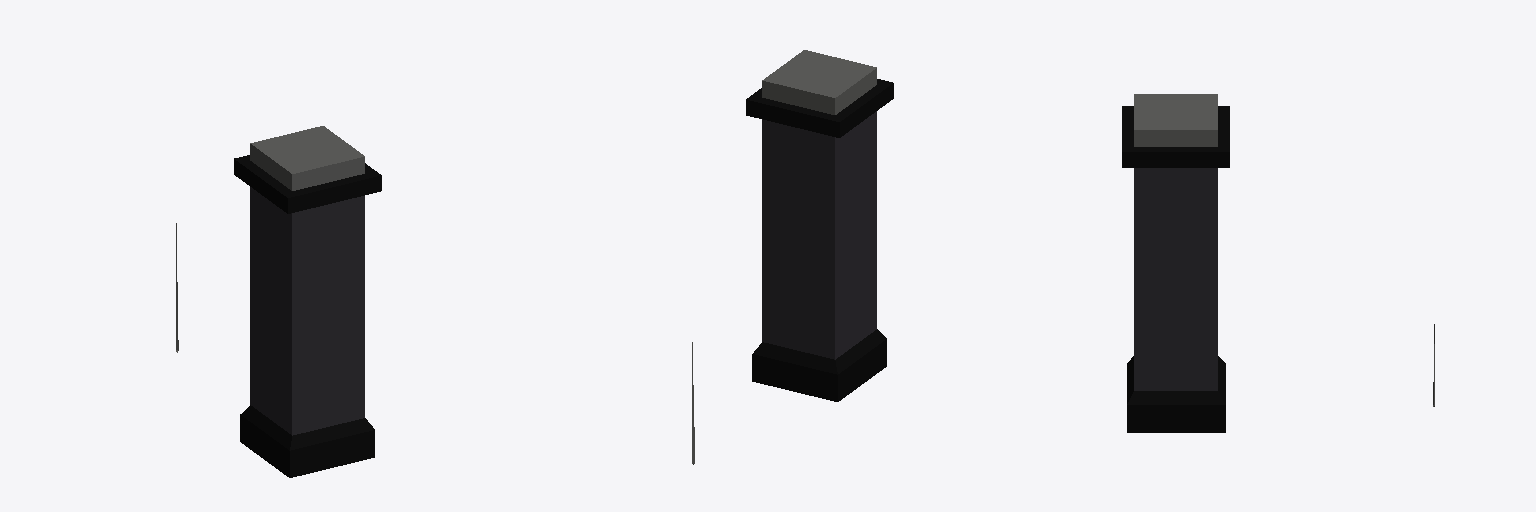
Rendered from pilar.obj.
3 views of the same model, side by side, from view 1: azimuth 30°, elevation 25°; view 2: azimuth 150°, elevation 25°; view 3: azimuth 270°, elevation 25° (orthographic).
Parts seen in each view (by area): view 1: SM_Gate:SM_Gate1; view 2: SM_Gate:SM_Gate1; view 3: SM_Gate:SM_Gate1.
Part boxes in pixels (bbox=[...]): SM_Gate:SM_Gate1: bbox=[176, 126, 381, 477]; SM_Gate:SM_Gate1: bbox=[692, 50, 893, 464]; SM_Gate:SM_Gate1: bbox=[1122, 94, 1434, 432].
Size of the model in its own units: 1.38 by 4.37 by 4.01.